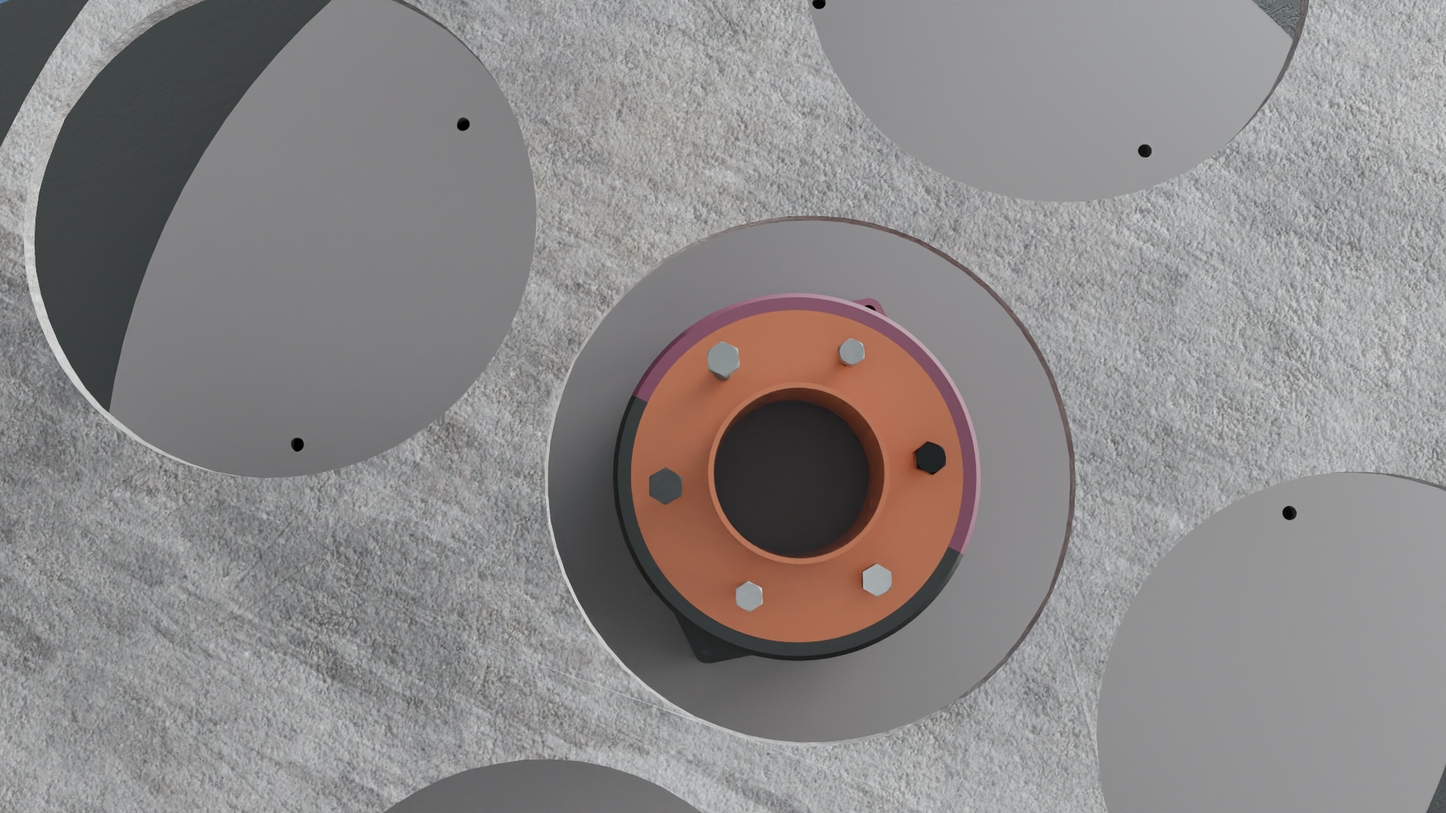bolt: (649, 467, 682, 505), (707, 341, 740, 376), (914, 441, 946, 475), (863, 564, 892, 597), (736, 581, 763, 612), (838, 338, 865, 366)
